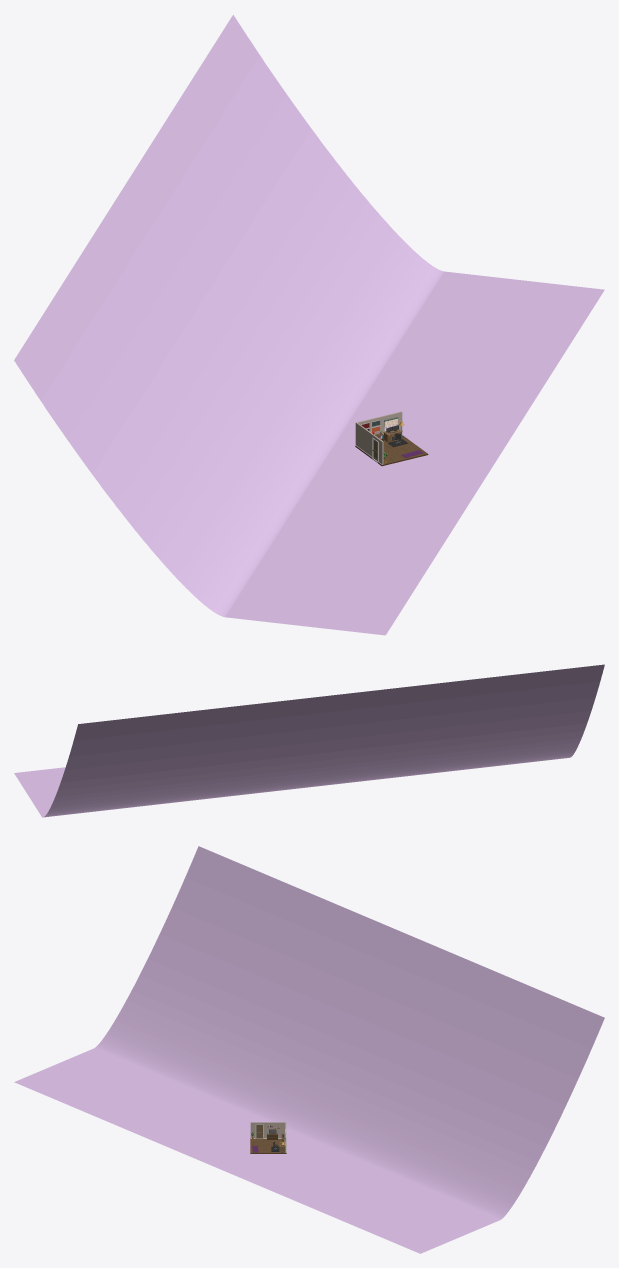
File: room.glb
3 views of the same model, one above another, from view 1: azimuth 30°, elevation 25°; view 2: azimuth 150°, elevation 25°; view 3: azimuth 270°, elevation 25° (orthographic). The views are drawn at different scales.
Parts seen in each view (by area): view 1: BG; view 2: BG; view 3: BG.
Part boxes in pixels (bbox=[...]): BG: bbox=[14, 15, 604, 635]; BG: bbox=[14, 664, 604, 817]; BG: bbox=[14, 846, 604, 1253].
Bounding box in the file's own units: 147 × 43.33 × 147.
67 materials, 66 textured.
